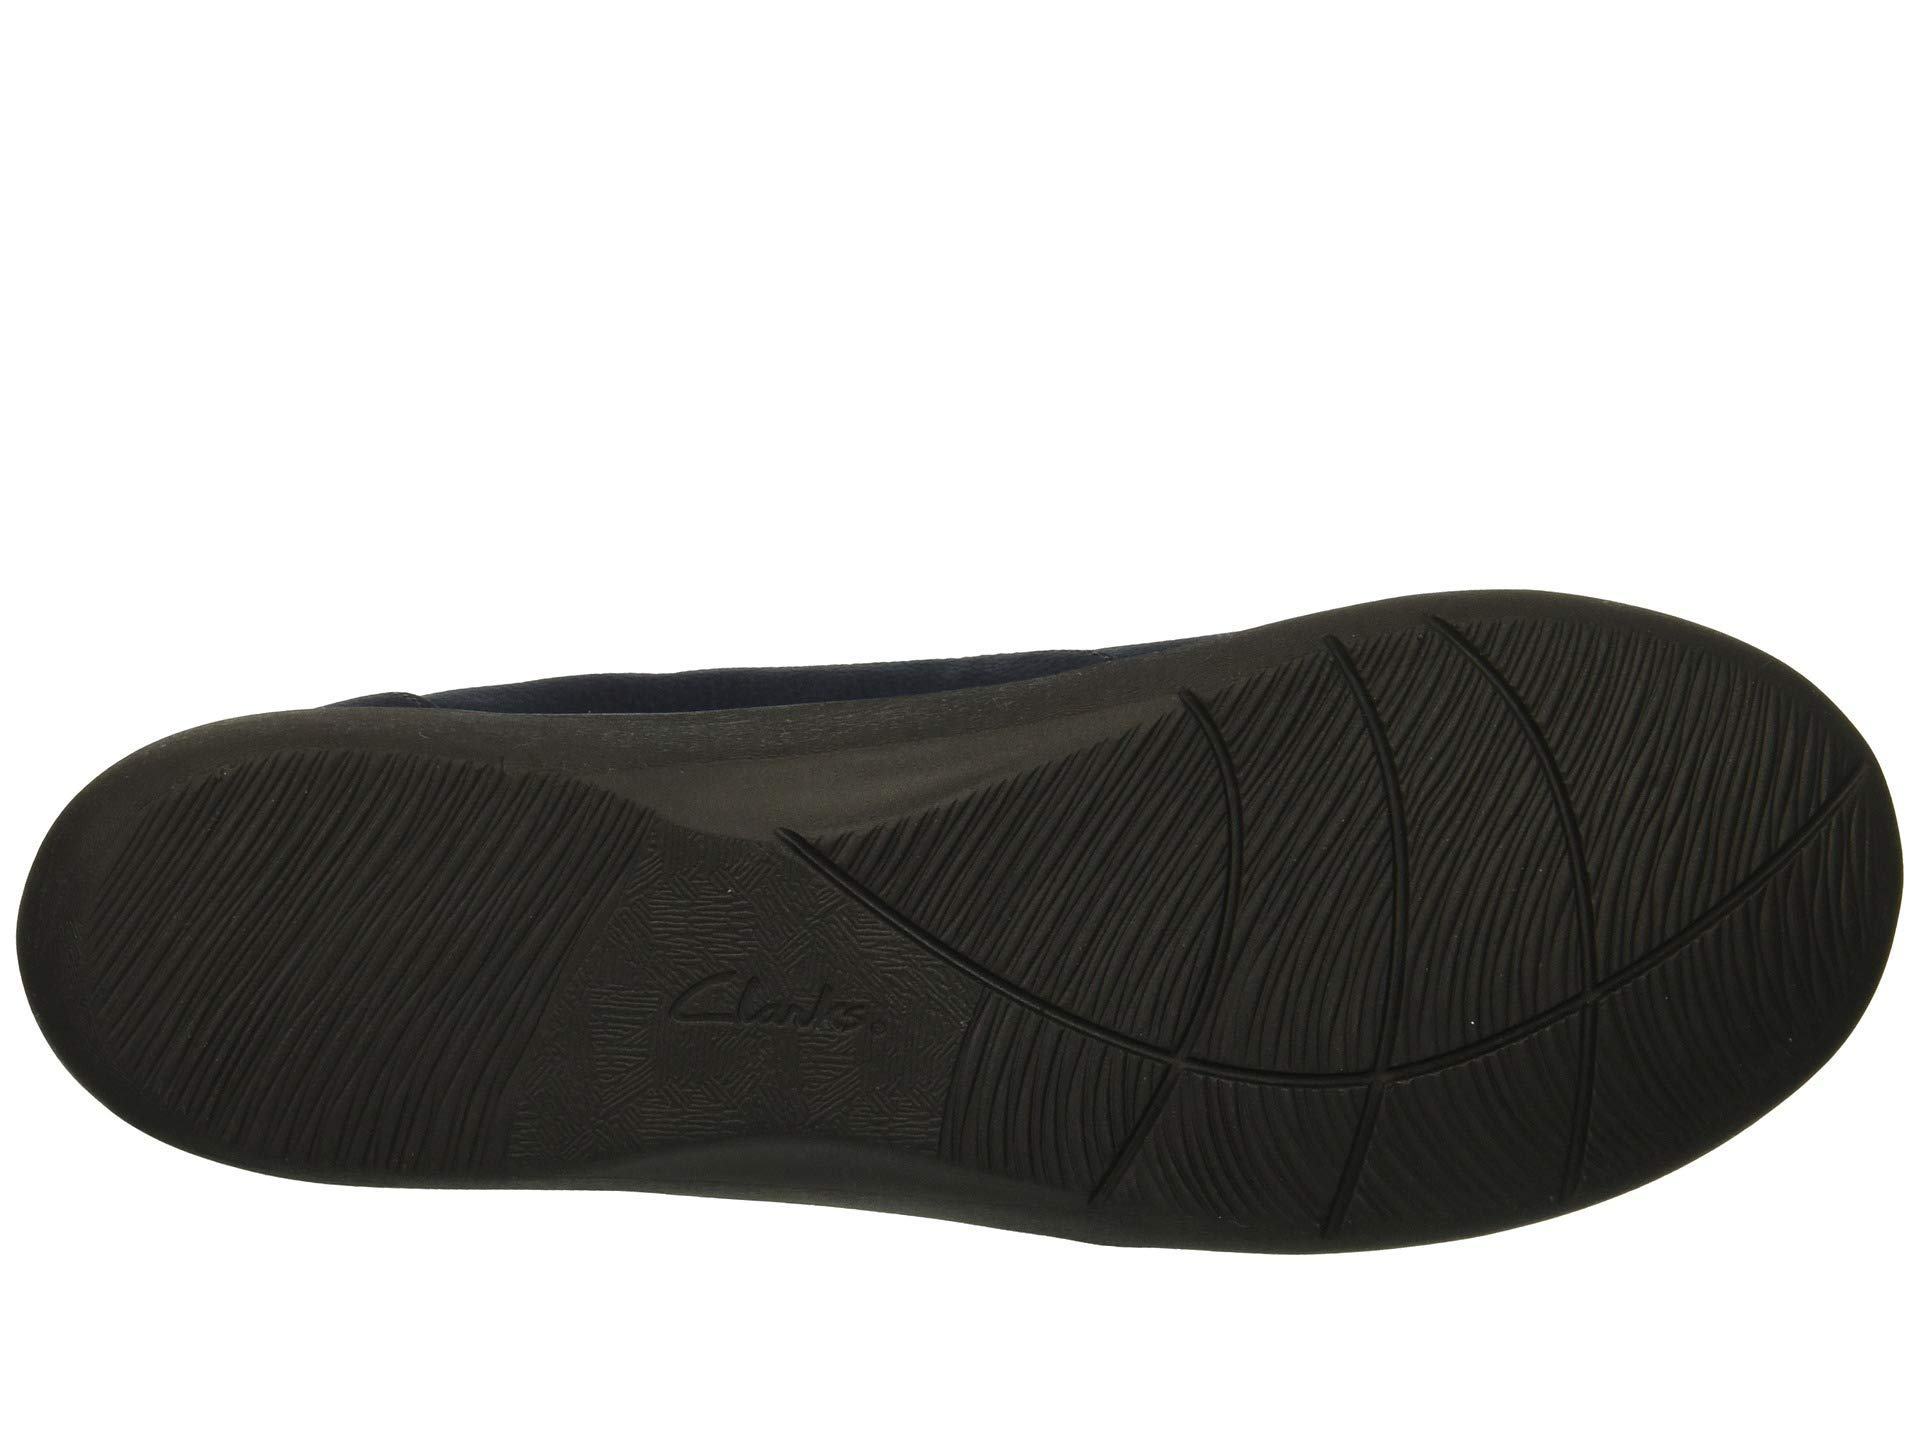line: (1060, 738, 1503, 1172), (1525, 678, 1835, 988), (175, 821, 463, 1122)
text: (612, 926, 890, 1141)
